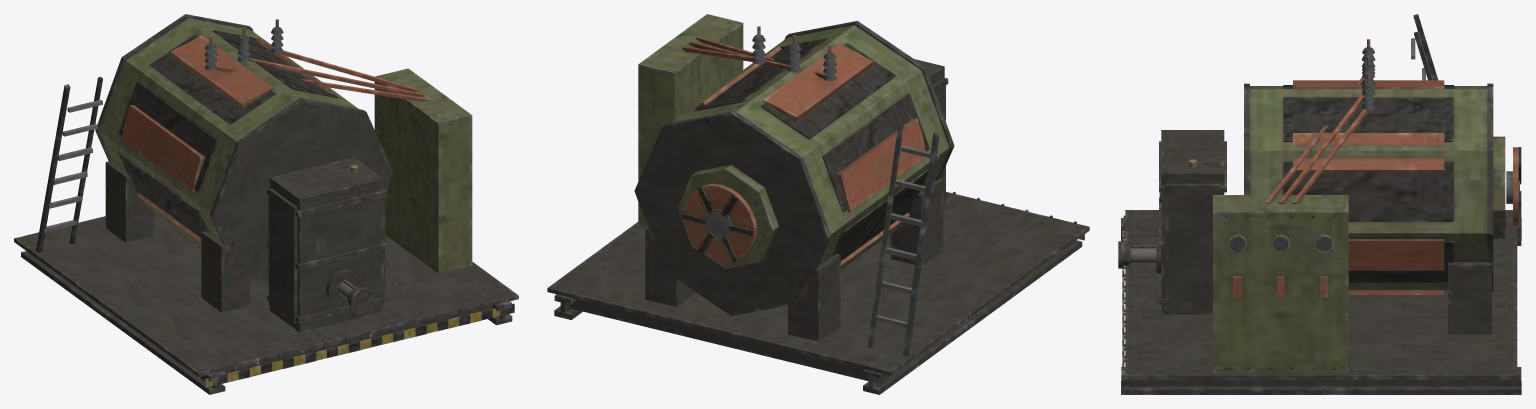
Rendered from feDynamo2.glb.
3 renders of one model, left to right at view 1: azimuth 30°, elevation 25°; view 2: azimuth 150°, elevation 25°; view 3: azimuth 270°, elevation 25°, orthographic. The views are drawn at different scales.
Parts seen in each view (by area): view 1: feDynamo2_Base, FeSpin_Dynamo2In; view 2: feDynamo2_Base, FeSpin_Dynamo2Rotor; view 3: feDynamo2_Base, FeSpin_Dynamo2Rotor, FeSpin_Dynamo2In.
Boxes of the visible parts, bbox=[...] form: feDynamo2_Base: bbox=[14, 14, 518, 394]; FeSpin_Dynamo2In: bbox=[337, 279, 373, 313]; feDynamo2_Base: bbox=[547, 14, 1089, 394]; FeSpin_Dynamo2Rotor: bbox=[681, 183, 756, 262]; feDynamo2_Base: bbox=[1121, 14, 1521, 394]; FeSpin_Dynamo2Rotor: bbox=[1506, 147, 1521, 228]; FeSpin_Dynamo2In: bbox=[1118, 241, 1156, 268].
Size of the model in its own units: 2.9 by 2.12 by 2.98.
1 material, 1 textured.
